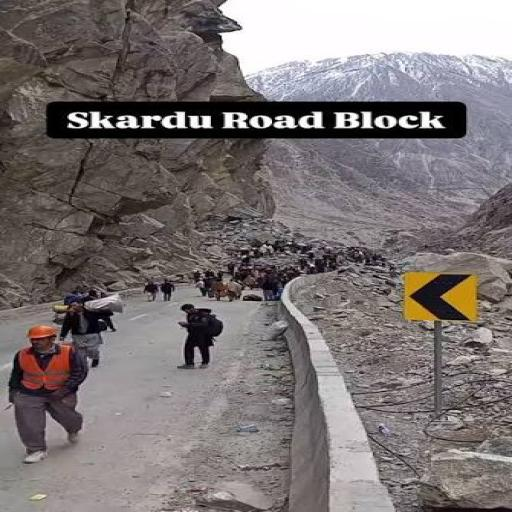Landslide: (113, 193, 386, 297)
